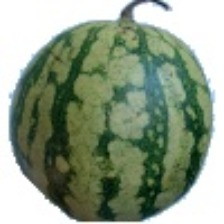watermelon: (23, 33, 167, 197)
